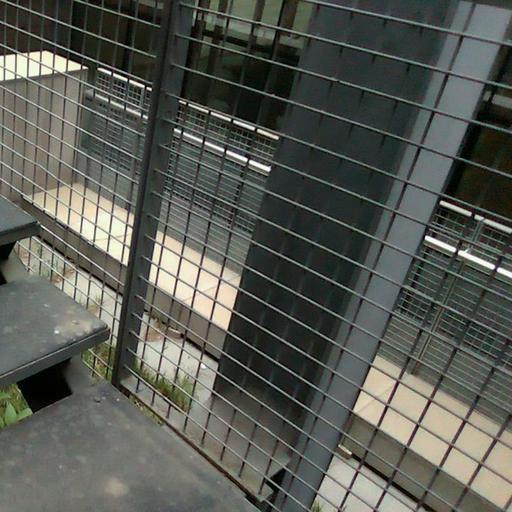stairs: (0, 197, 254, 511)
